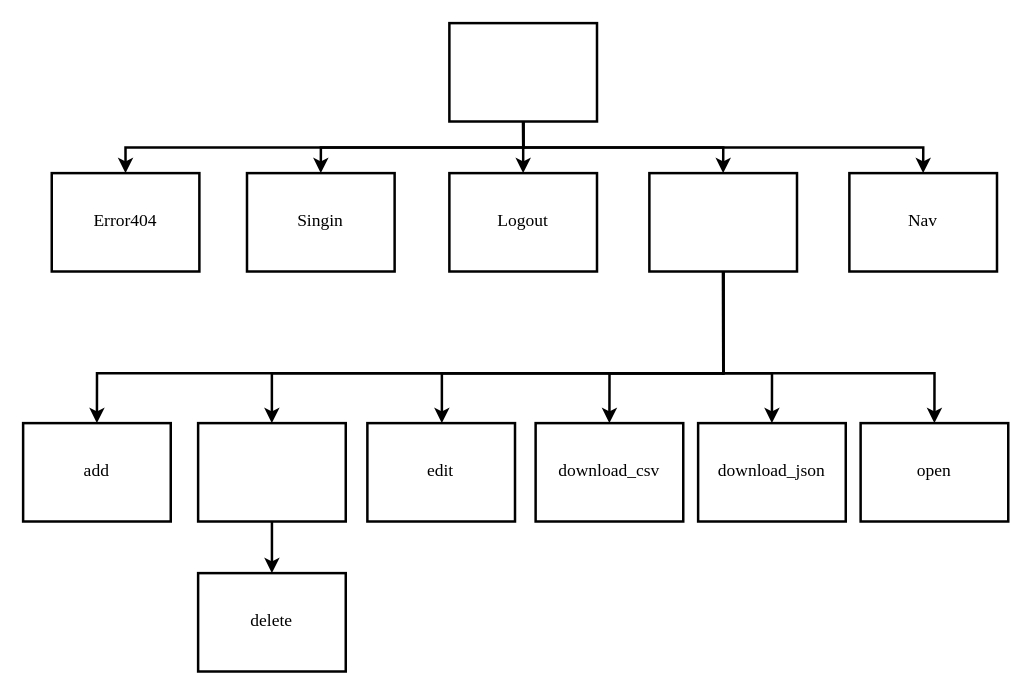
The diagram is 1031 pixels wide and 694 high, and some of its shapes have lost their labels. The box of each missing label's shape, as (x1, y1, x2, y2) in pixels:
App: (448, 21, 598, 122)
get: (196, 421, 346, 522)
Product: (648, 171, 798, 272)
